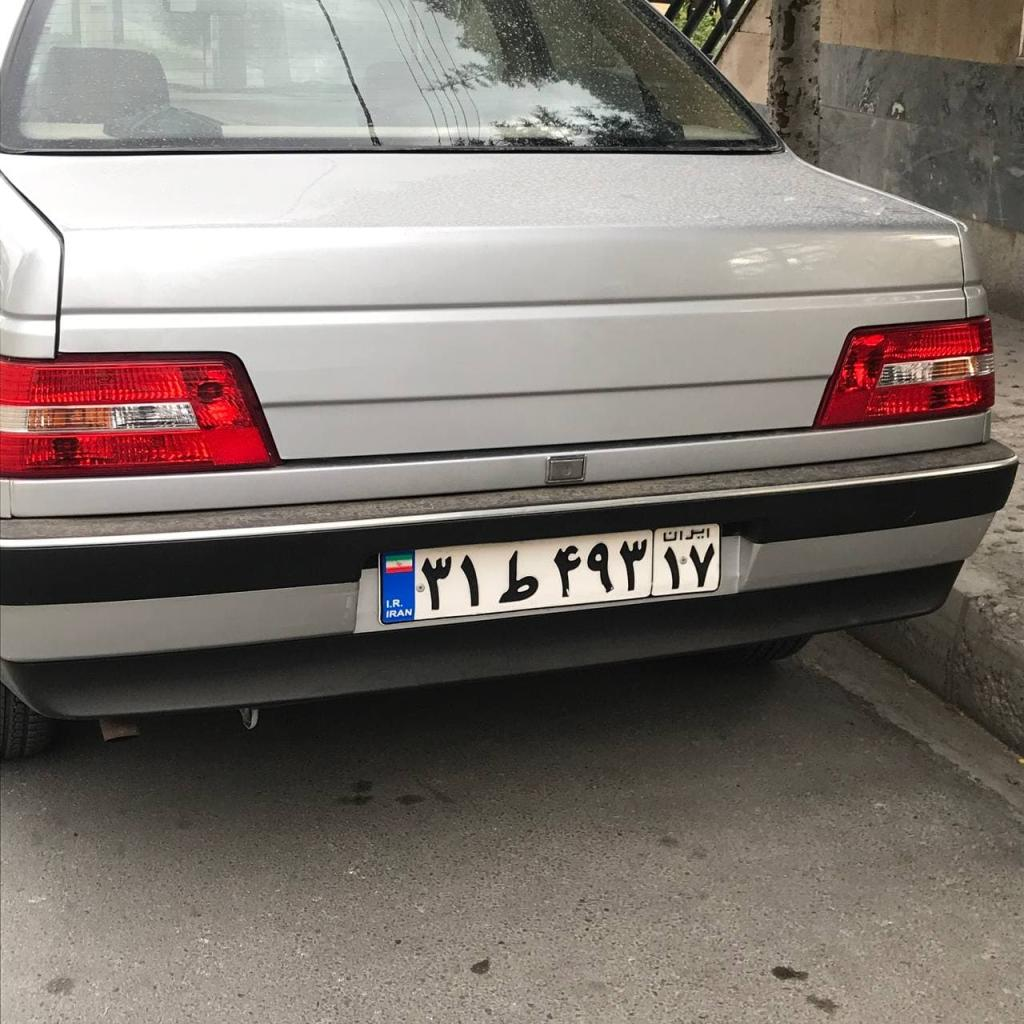Plates: (380, 522, 720, 624)
